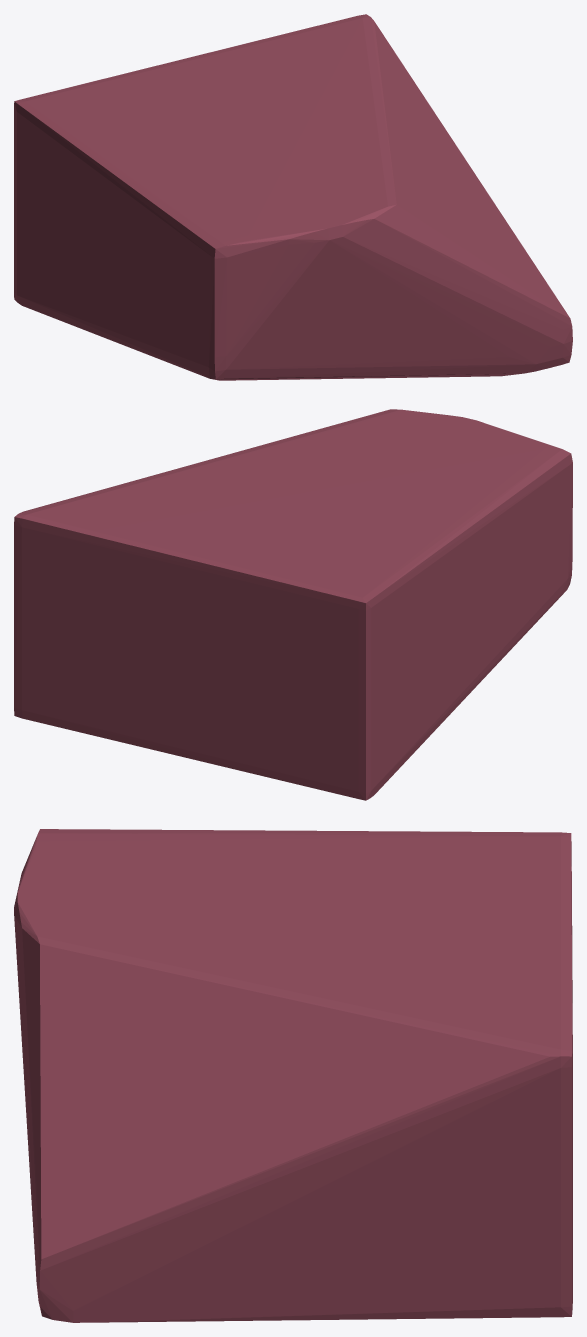
The model's file is right-hip-pitch-0_part_13.obj.
3 renders of one model, top to bottom at view 1: azimuth 30°, elevation 25°; view 2: azimuth 150°, elevation 25°; view 3: azimuth 270°, elevation 25°, orthographic. The views are drawn at different scales.
Size of the model in its own units: 0.0645 by 0.0358 by 0.0665.
